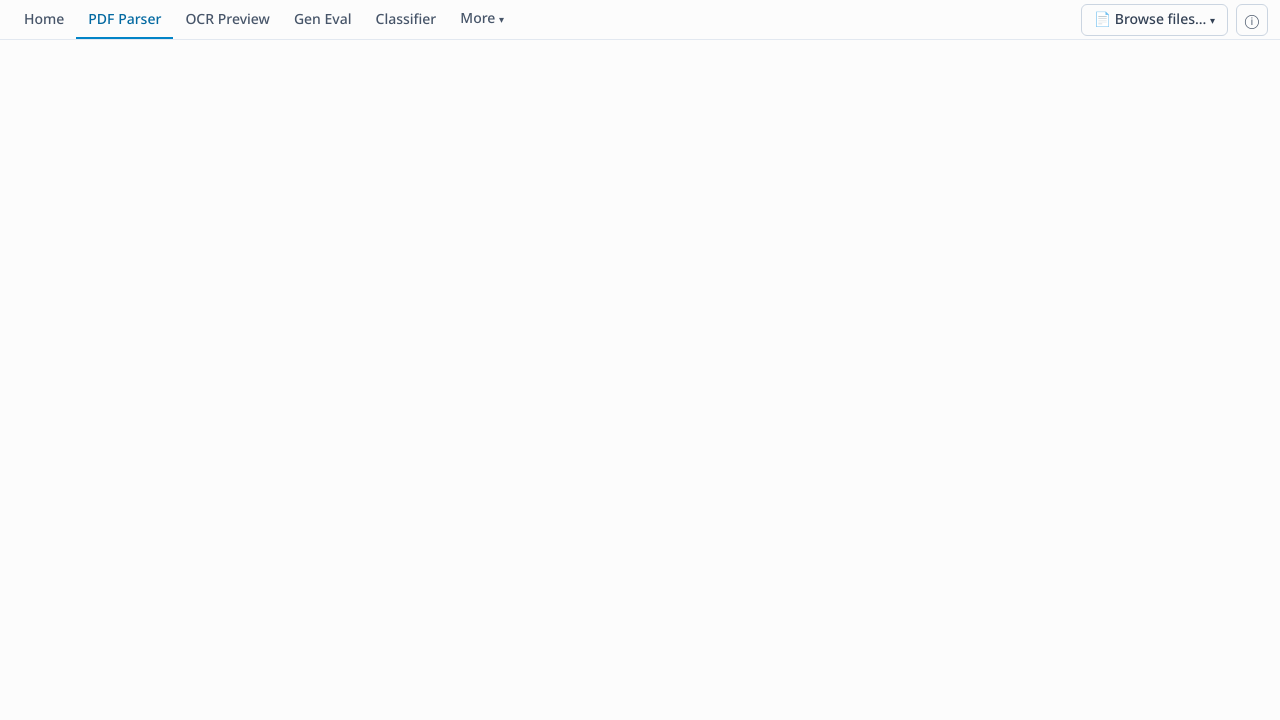
Test case: the three paths live behind an ⓘ popover instead of taking space all the time
Check: the text "/data/configs" is not shown
Click the button named "Paths" at (1252, 20), box [1236, 4, 1268, 36]
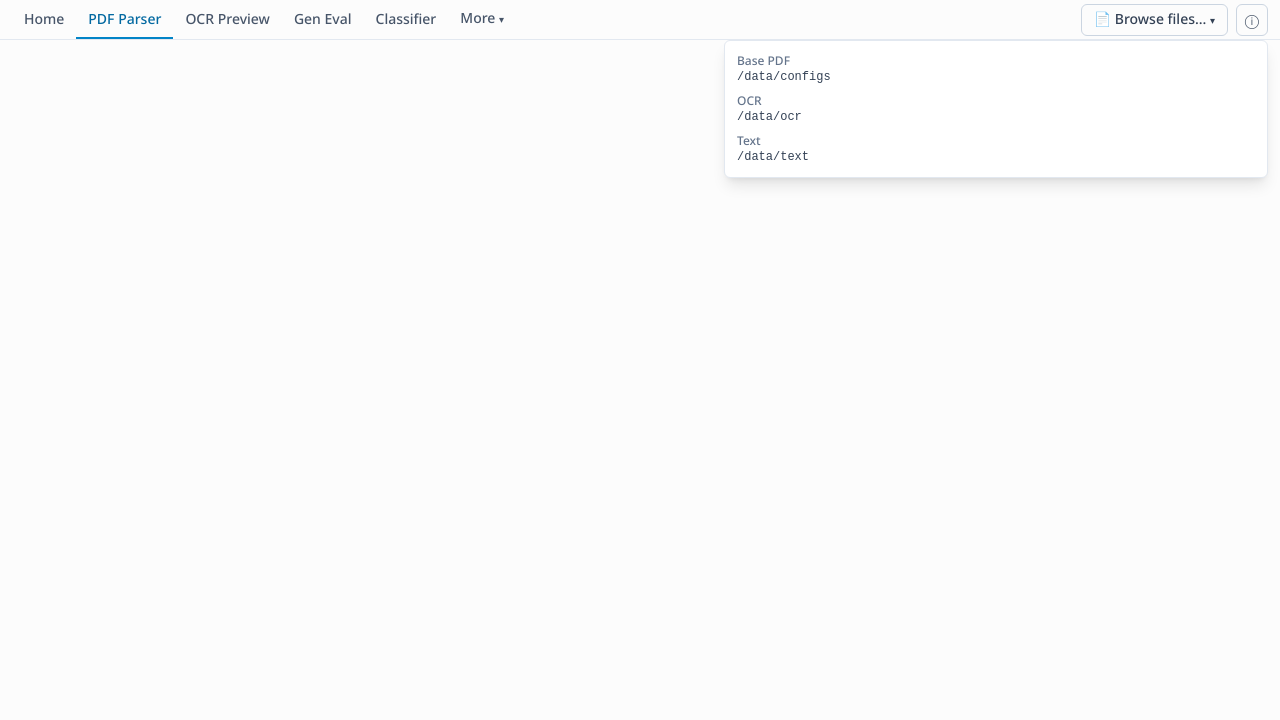
Check: the text "/data/configs" is shown, box [737, 70, 831, 84]
Check: the text "/data/ocr" is shown, box [737, 110, 802, 124]
Check: the text "/data/text" is shown, box [737, 150, 809, 164]
Press Escape
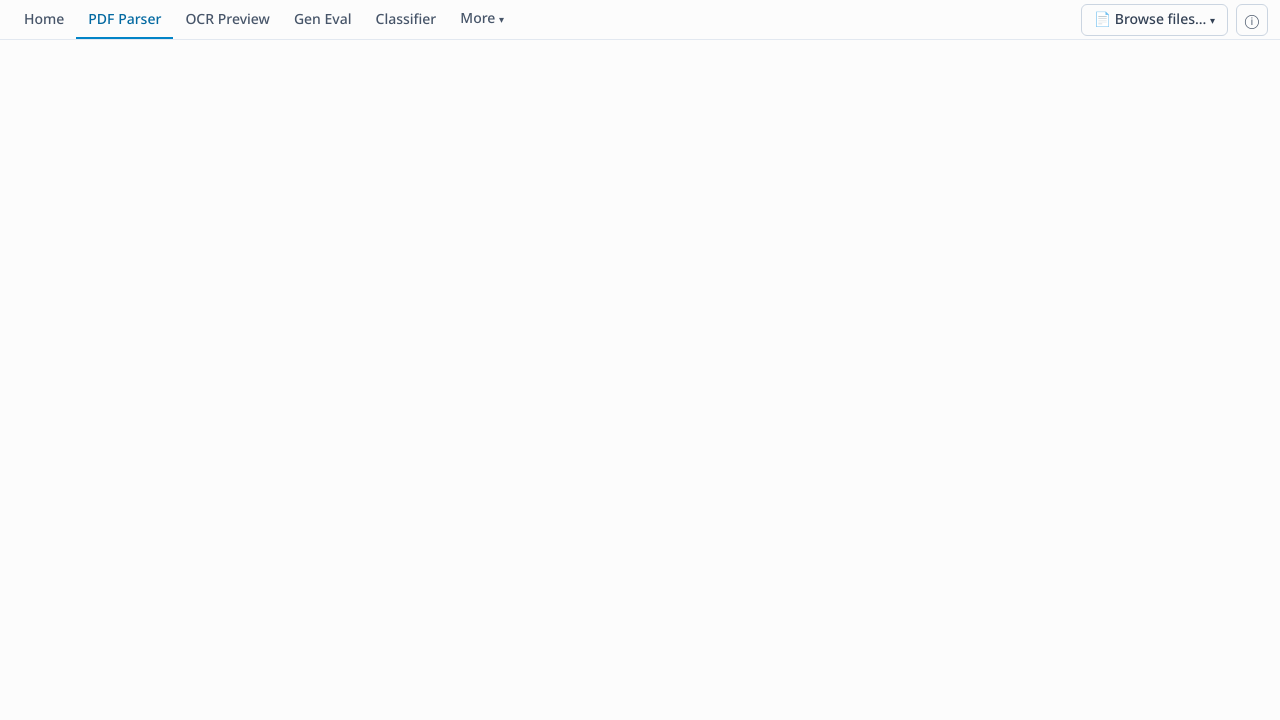
Check: the dialog is gone
